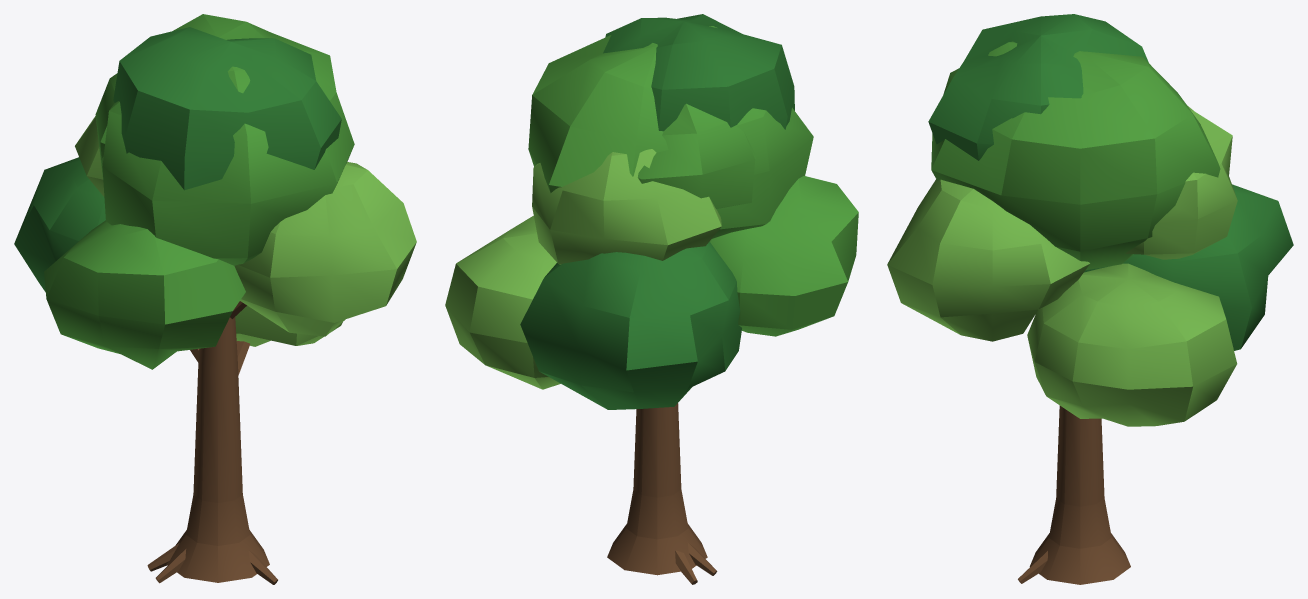
Rendered from baum_laub_1.obj.
3 views of the same model, side by side, from view 1: azimuth 30°, elevation 25°; view 2: azimuth 150°, elevation 25°; view 3: azimuth 270°, elevation 25° (orthographic). The views are drawn at different scales.
Visible parts, largest first — view 1: baum_laub_1_Koerper; view 2: baum_laub_1_Koerper; view 3: baum_laub_1_Koerper.
Boxes of the visible parts, bbox=[...] form: baum_laub_1_Koerper: bbox=[14, 14, 416, 584]; baum_laub_1_Koerper: bbox=[445, 14, 858, 584]; baum_laub_1_Koerper: bbox=[887, 14, 1293, 584].
Bounding box in the file's own units: 3.23 × 4.8 × 3.31.
